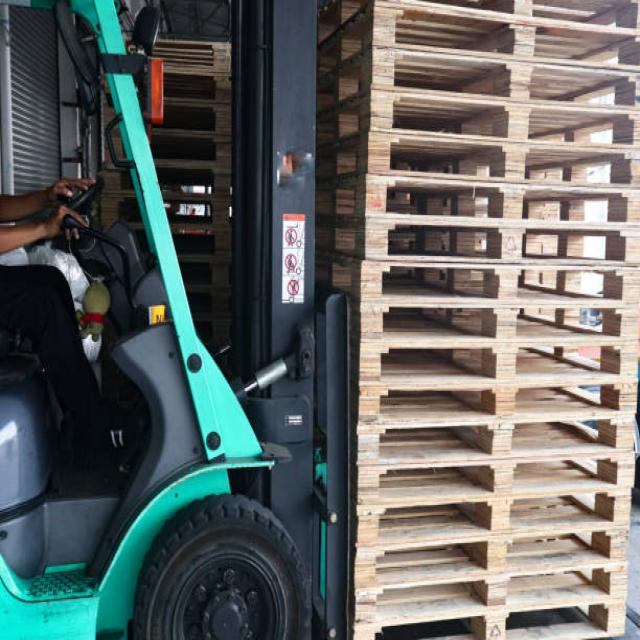Wooden-Pallets: (358, 41, 640, 133), (346, 524, 640, 599), (358, 128, 637, 206), (351, 444, 640, 516), (349, 297, 640, 359), (354, 372, 638, 430), (353, 217, 640, 274)
